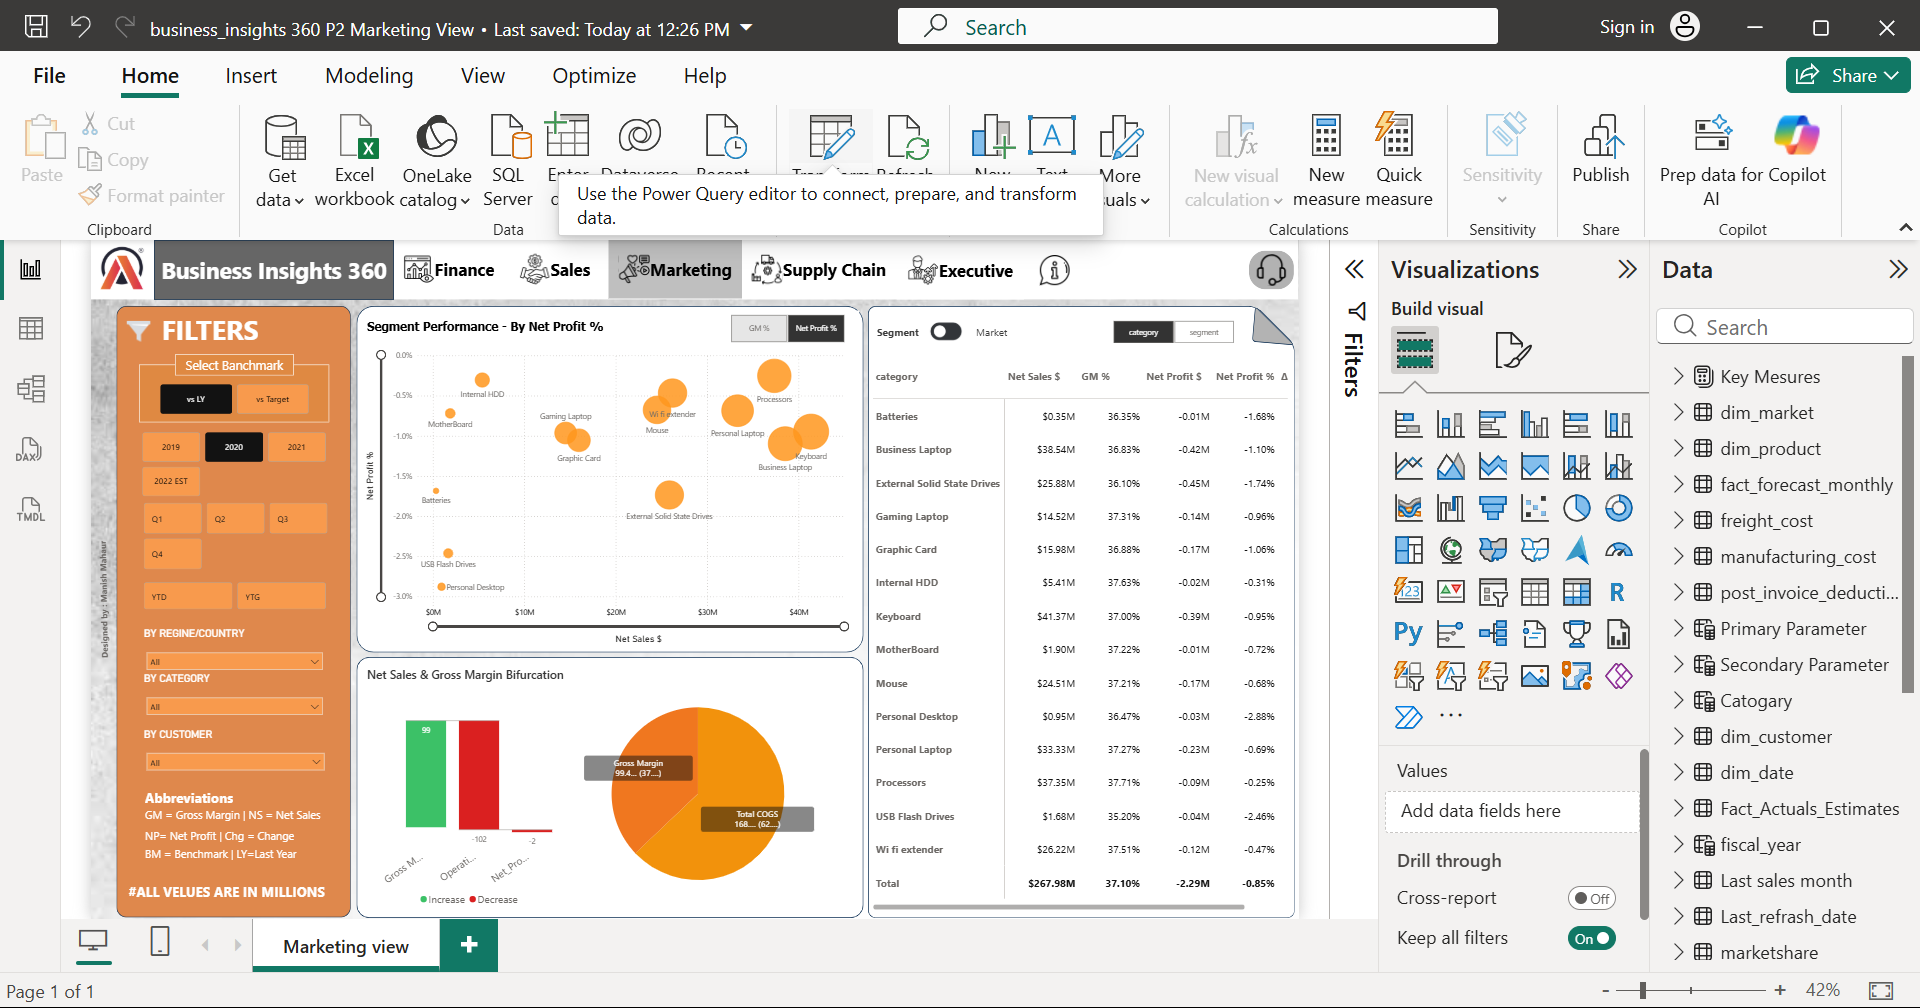

The page's visual inventory and layout, read from the dashboard file:
{"tool":"powerbi","page":{"name":"Marketing view ","canvas":[1920,1080],"ordinal":0},"visuals":[{"type":"shape","box":[0,0,1920,94.5],"z":0},{"type":"pivotTable","fields":{"Rows":[" dim_market.region"," dim_market.market"," dim_product.product"],"Values":["Key Mesures.Net Sales $","Key Mesures.Gross Margin $","Key Mesures.Gross Margin %","Key Mesures.Net_Profit $","Key Mesures.Net_Profit %"]},"box":[1238.5,194.8,678.8,881.1],"z":0,"group":"g1"},{"type":"shape","box":[0.3,0,264,24],"z":1000},{"type":"image","box":[1317.3,124.9,84.6,46.2],"z":1000,"group":"g1"},{"type":"shape","box":[10,10,237.5,33.8],"z":2000},{"type":"slicer","fields":{"Values":["Param MRKT 02: Market View List.Param MRKT 02: Market View List"]},"box":[1624.1,137.1,242.7,54.9],"z":2000,"group":"g1"},{"type":"image","box":[0,9.5,100.2,69.2],"z":3000},{"type":"shape","box":[40,105,372.5,972.5],"z":4000},{"type":"actionButton","box":[0,426.3,39.8,289.5],"z":5000},{"type":"actionButton","box":[486.7,0,164.6,93.1],"z":6000},{"type":"actionButton","box":[651.4,0,171.8,93.1],"z":7000},{"type":"actionButton","box":[823.1,0,212.3,93.1],"z":8000},{"type":"actionButton","box":[1036.2,0,243.8,94.5],"z":9000},{"type":"actionButton","box":[1281.2,0,202.8,95.4],"z":10000},{"type":"actionButton","box":[1841.9,16.7,71.6,62],"z":11000},{"type":"image","box":[1507.9,23.9,50.1,47.7],"z":12000},{"type":"shape","box":[100.2,0,381.7,95.4],"z":13000},{"type":"advancedSlicerVisual","fields":{"Values":["fiscal_year.FY Desc"]},"box":[76.3,300.6,303,112.1],"z":14000},{"type":"advancedSlicerVisual","fields":{"Values":["dim_date.Quarter"]},"box":[78.2,412.2,302.4,117.1],"z":15000},{"type":"advancedSlicerVisual","fields":{"Values":["dim_date.YTD_YTG"]},"box":[78.2,539,300,53.7],"z":16000},{"type":"slicer","title":"BY REGINE/COUNTRY","fields":{"Values":[" dim_market.region"," dim_market.market"]},"box":[78.3,615,300,82.5],"z":17000},{"type":"slicer","title":"BY CATEGORY","fields":{"Values":[" dim_product.segment"," dim_product.category"," dim_product.product"]},"box":[78.3,687.5,300,87.5],"z":18000},{"type":"slicer","title":"BY CUSTOMER","fields":{"Values":["dim_customer.customer"]},"box":[78.3,775,302.5,80],"z":19000},{"type":"image","box":[44.2,118.4,60.5,50],"z":20000},{"type":"textbox","box":[106.7,106.7,192.1,78.9],"z":21000},{"type":"shape","box":[75.8,197.4,302.6,92.1],"z":22000},{"type":"shape","box":[133.7,181.4,189,34.2],"z":23000},{"type":"advancedSlicerVisual","fields":{"Values":["Set BM.Benchmark"]},"box":[104.7,223.7,247.4,57.9],"z":24000},{"type":"shape","box":[85.8,897.5,292.5,32.5],"z":25000},{"type":"shape","box":[85.8,865,285,40],"z":26000},{"type":"shape","box":[85.8,930,285,32.5],"z":27000},{"type":"shape","box":[85.8,962.5,285,30],"z":28000},{"type":"shape","box":[60.8,1017.5,340,40],"z":29000},{"type":"shape","box":[1236.4,104,678.8,973.5],"z":30000},{"type":"shape","box":[1842.5,105,77.5,62.5],"z":31000},{"type":"shape","box":[421.8,104,806.4,551.1],"z":32000},{"type":"shape","box":[422.3,663.3,806.4,415.1],"z":33000},{"type":"slicer","fields":{"Values":["PARAM MRKT 01: Performance Matrix Y Axis.PARAM MRKT 01: Performance Matrix Y Axis"]},"box":[992.5,112.1,229,57.3],"z":34000},{"type":"pieChart","fields":{"Category":["P & L Rows.Description"],"Y":["Key Mesures.P & L Velue"]},"box":[721.8,678.7,484.3,405.6],"z":35000},{"type":"waterfallChart","fields":{"Category":["P & L Rows.Description"],"Y":["Key Mesures.P & L Velue"]},"box":[431.9,749.2,343.6,319.7],"z":36000},{"type":"shape","box":[439,663.3,330.6,55.3],"z":37000},{"type":"shape","box":[439.1,101.1,439,74],"z":39000},{"type":"scatterChart","fields":{"Category":["Catogary.category"],"Size":["Key Mesures.Net Sales $"],"X":["Key Mesures.Net Sales $"],"Y":["Key Mesures.Net Profit %"]},"box":[430.4,170.4,789.7,477.2],"z":40000},{"type":"shape","title":"Lbl All - selected","box":[1245.6,112.7,76,68],"z":41000},{"type":"shape","title":"Lbl TopN Normal","box":[1406.8,112.7,57.8,69.3],"z":42000},{"type":"group","id":"g1","title":"Market View","box":[1238.5,124.9,678.8,951],"z":43000}]}

Visuals, with their boxes on the page's 1920x1080 design canvas (x1, y1, x2, y2). These are canvas units, not pixel positions in the 1920x1008 screenshot, which may show the page scaled, cropped or inside an application window:
shape: rect(0, 0, 1920, 94)
pivotTable -  dim_market.region x  dim_market.market: rect(1238, 195, 1917, 1076)
shape: rect(0, 0, 264, 24)
image: rect(1317, 125, 1402, 171)
shape: rect(10, 10, 248, 44)
slicer - Param MRKT 02: Market View List.Param MRKT 02: Market View List: rect(1624, 137, 1867, 192)
image: rect(0, 10, 100, 79)
shape: rect(40, 105, 412, 1078)
actionButton: rect(0, 426, 40, 716)
actionButton: rect(487, 0, 651, 93)
actionButton: rect(651, 0, 823, 93)
actionButton: rect(823, 0, 1035, 93)
actionButton: rect(1036, 0, 1280, 94)
actionButton: rect(1281, 0, 1484, 95)
actionButton: rect(1842, 17, 1914, 79)
image: rect(1508, 24, 1558, 72)
shape: rect(100, 0, 482, 95)
advancedSlicerVisual - fiscal_year.FY Desc: rect(76, 301, 379, 413)
advancedSlicerVisual - dim_date.Quarter: rect(78, 412, 381, 529)
advancedSlicerVisual - dim_date.YTD_YTG: rect(78, 539, 378, 593)
"BY REGINE/COUNTRY" slicer: rect(78, 615, 378, 698)
"BY CATEGORY" slicer: rect(78, 688, 378, 775)
"BY CUSTOMER" slicer: rect(78, 775, 381, 855)
image: rect(44, 118, 105, 168)
textbox: rect(107, 107, 299, 186)
shape: rect(76, 197, 378, 290)
shape: rect(134, 181, 323, 216)
advancedSlicerVisual - Set BM.Benchmark: rect(105, 224, 352, 282)
shape: rect(86, 898, 378, 930)
shape: rect(86, 865, 371, 905)
shape: rect(86, 930, 371, 962)
shape: rect(86, 962, 371, 992)
shape: rect(61, 1018, 401, 1058)
shape: rect(1236, 104, 1915, 1078)
shape: rect(1842, 105, 1920, 168)
shape: rect(422, 104, 1228, 655)
shape: rect(422, 663, 1229, 1078)
slicer - PARAM MRKT 01: Performance Matrix Y Axis.PARAM MRKT 01: Performance Matrix Y Axis: rect(992, 112, 1222, 169)
pieChart - P & L Rows.Description x Key Mesures.P & L Velue: rect(722, 679, 1206, 1084)
waterfallChart - P & L Rows.Description x Key Mesures.P & L Velue: rect(432, 749, 776, 1069)
shape: rect(439, 663, 770, 719)
shape: rect(439, 101, 878, 175)
scatterChart - Catogary.category x Key Mesures.Net Sales $: rect(430, 170, 1220, 648)
"Lbl All - selected" shape: rect(1246, 113, 1322, 181)
"Lbl TopN Normal" shape: rect(1407, 113, 1465, 182)
"Market View" group: rect(1238, 125, 1917, 1076)
